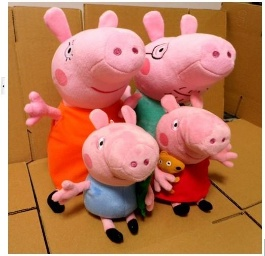Peppa: (154, 94, 234, 215)
